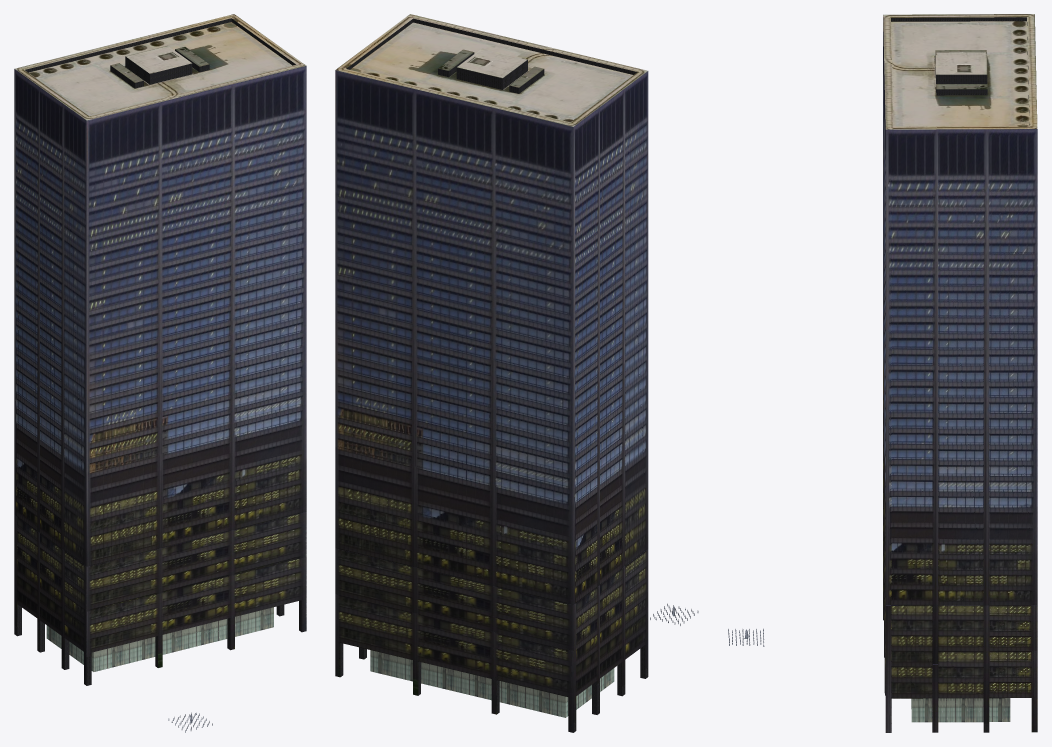
The model's file is Richard-J.fbx.
The picture shows the model from 3 angles, left to right: view 1: azimuth 30°, elevation 25°; view 2: azimuth 150°, elevation 25°; view 3: azimuth 270°, elevation 25°; orthographic projection. The views are drawn at different scales.
Parts seen in each view (by area): view 1: Model; view 2: Model; view 3: Model.
Boxes of the visible parts, x1=… form: Model: x1=14, y1=14, x2=306, y2=723; Model: x1=335, y1=14, x2=674, y2=732; Model: x1=744, y1=14, x2=1037, y2=732.
Size of the model in its own units: 3132 by 7727 by 3546.
